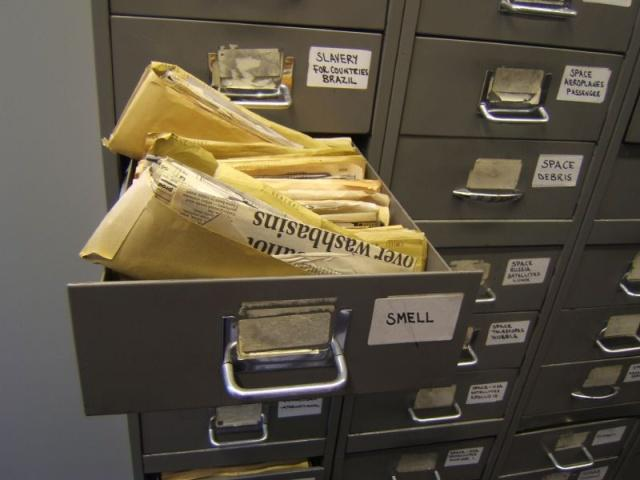Filing Cabinet: (66, 0, 484, 479)
